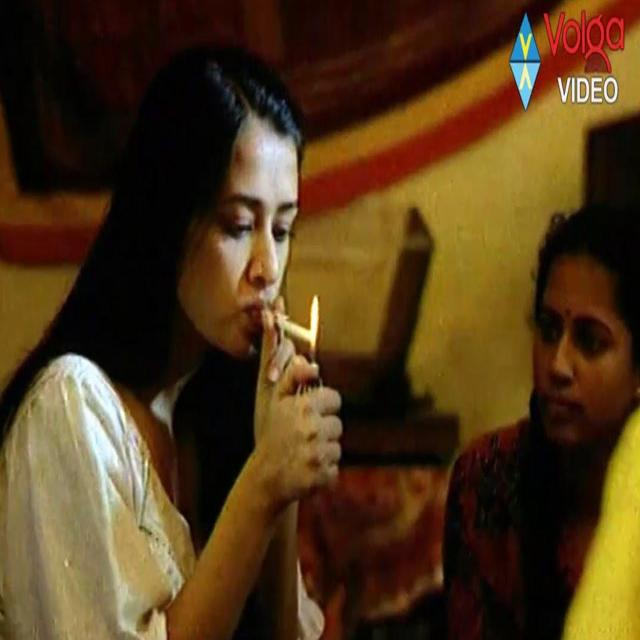cigarette: (265, 305, 342, 382)
